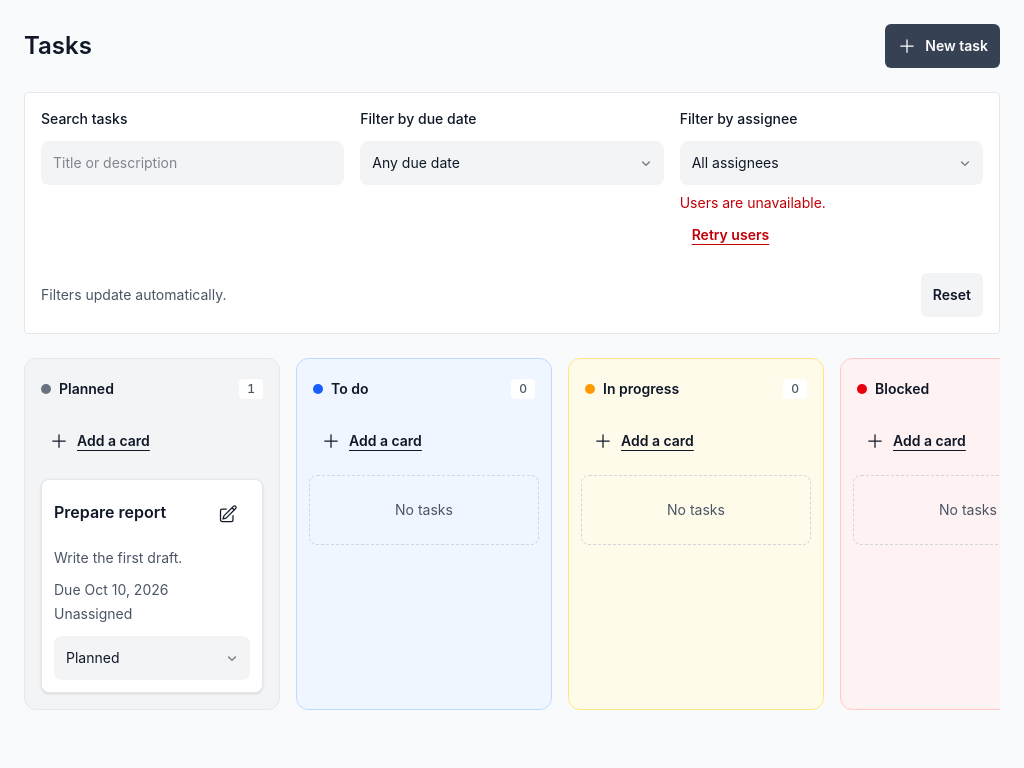
Test case: shows a users error in the form and loads them again on retry
Click the button "New task". click: [943, 46]
box: top-left (885, 24), bottom-right (1000, 68)
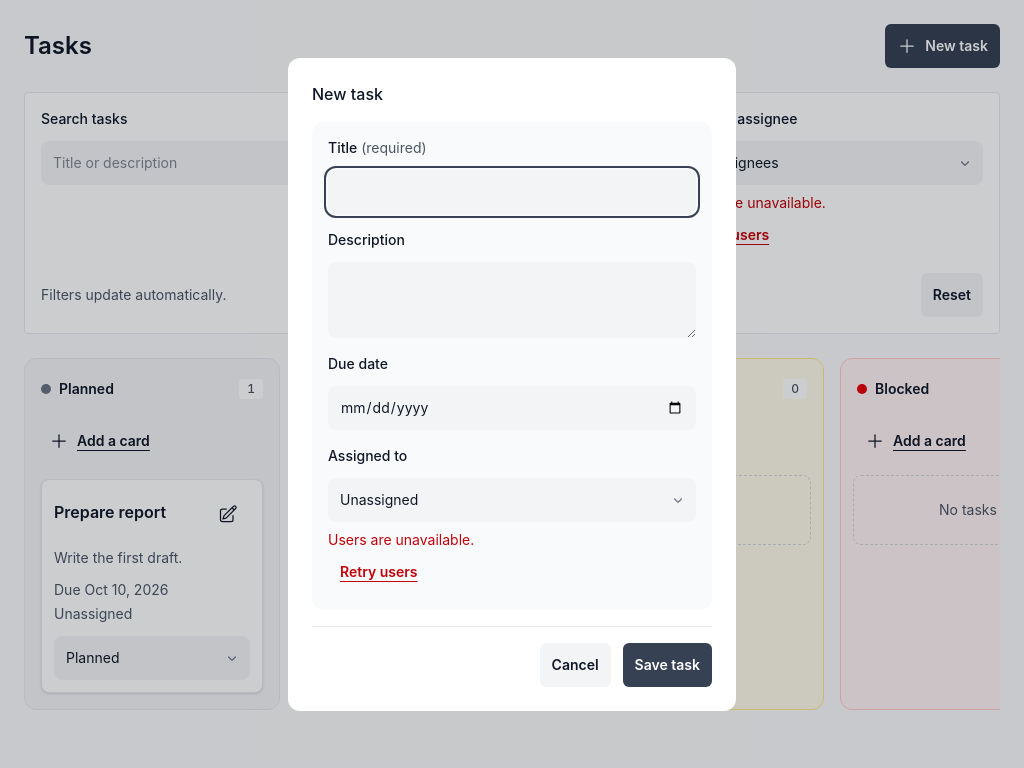
Check: the text "Users are unavailable." is shown, box top-left (328, 530), bottom-right (474, 548)
Click the button "Retry users". click: [379, 572]
box: top-left (328, 550), bottom-right (430, 594)
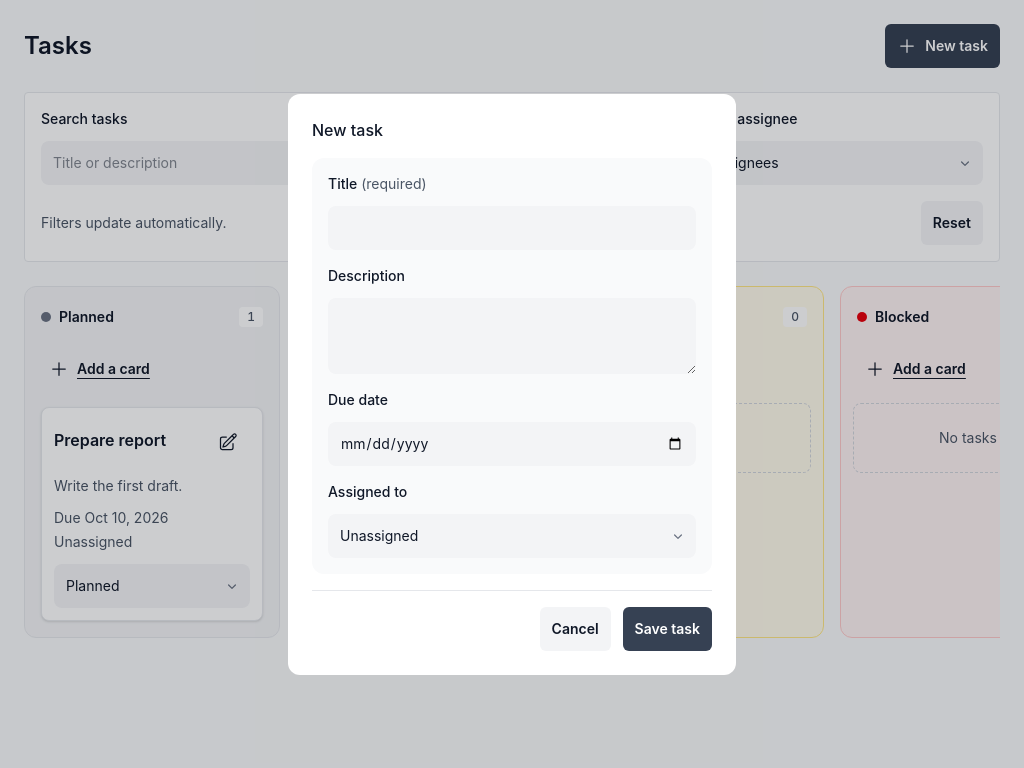
Click the button named "Assigned to". click: [379, 535]
box: top-left (328, 514), bottom-right (696, 558)
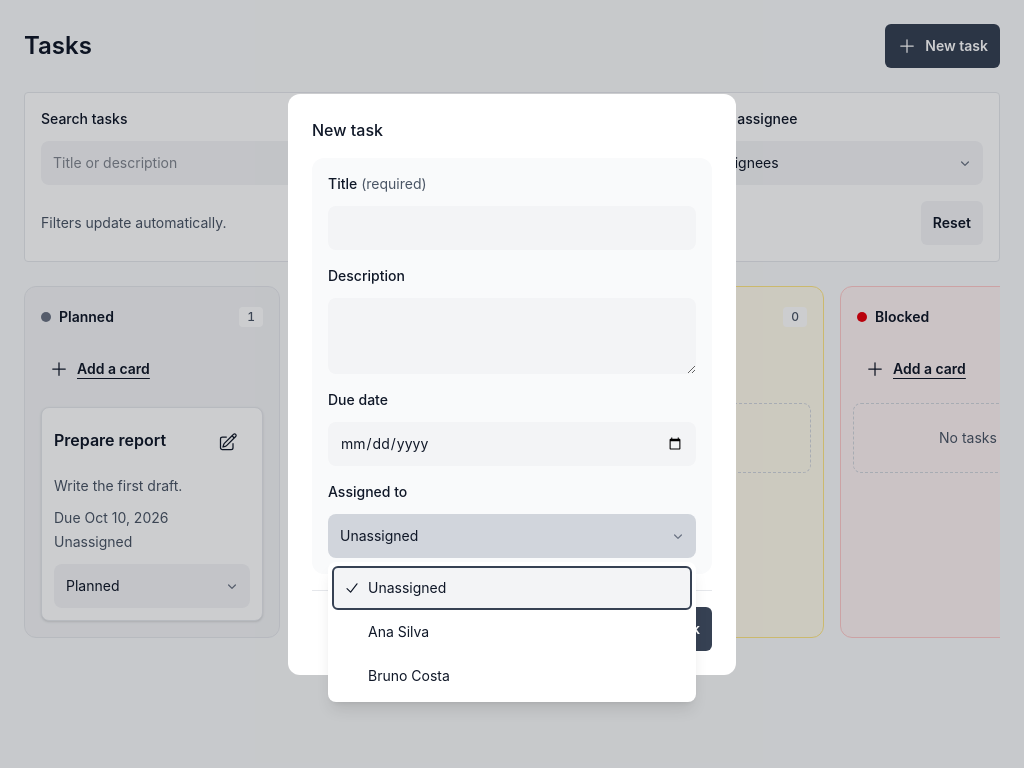
Check: the option "Bruno Costa" is shown, box top-left (368, 667), bottom-right (450, 684)
